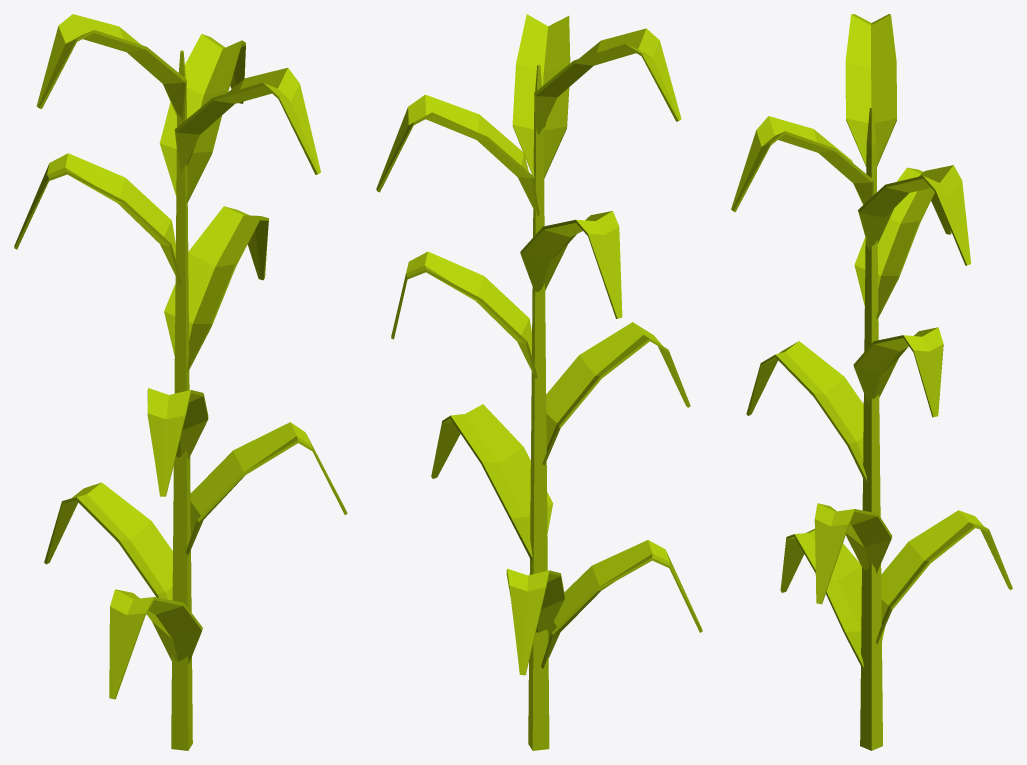
File: corn_03.fbx
3 renders of one model, left to right at view 1: azimuth 30°, elevation 25°; view 2: azimuth 150°, elevation 25°; view 3: azimuth 270°, elevation 25°, orthographic. The views are drawn at different scales.
Parts seen in each view (by area): view 1: Cube; view 2: Cube; view 3: Cube.
Boxes of the visible parts, x1,y1,x2,y2 form: Cube: [14, 14, 347, 750]; Cube: [376, 14, 702, 750]; Cube: [731, 14, 1012, 750].
Bounding box in the file's own units: 60.57 × 154 × 57.24.
